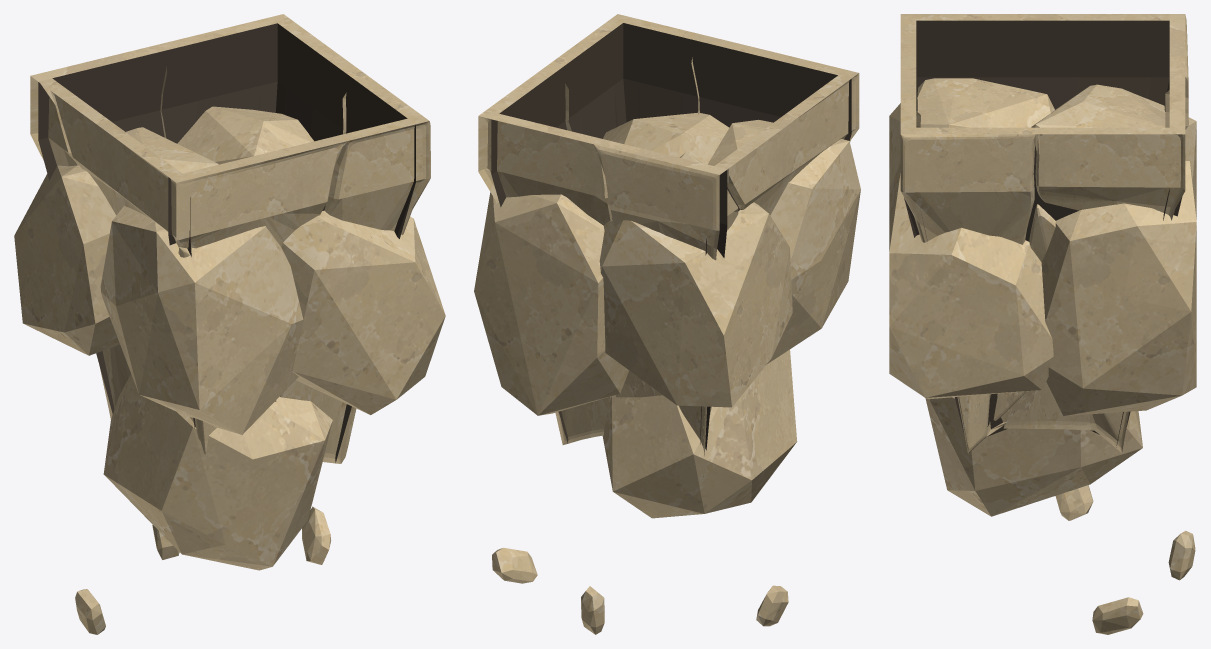
File: ground_bottom_square_island_06.glb
3 renders of one model, left to right at view 1: azimuth 30°, elevation 25°; view 2: azimuth 150°, elevation 25°; view 3: azimuth 270°, elevation 25°, orthographic. The views are drawn at different scales.
Parts seen in each view (by area): view 1: GroundBottomSquareIsland06_Body; view 2: GroundBottomSquareIsland06_Body; view 3: GroundBottomSquareIsland06_Body.
Part boxes in pixels (bbox=[...]): GroundBottomSquareIsland06_Body: bbox=[14, 14, 445, 634]; GroundBottomSquareIsland06_Body: bbox=[474, 14, 860, 634]; GroundBottomSquareIsland06_Body: bbox=[889, 14, 1196, 634].
Size of the model in its own units: 1.08 by 1.95 by 1.08.
14 materials, 13 textured.
